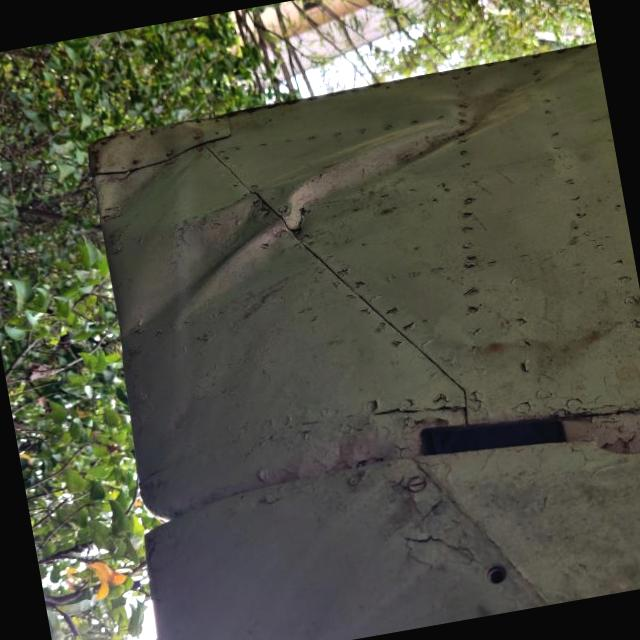crack: (286, 200, 318, 234)
dent: (139, 142, 380, 342), (367, 40, 591, 183)
